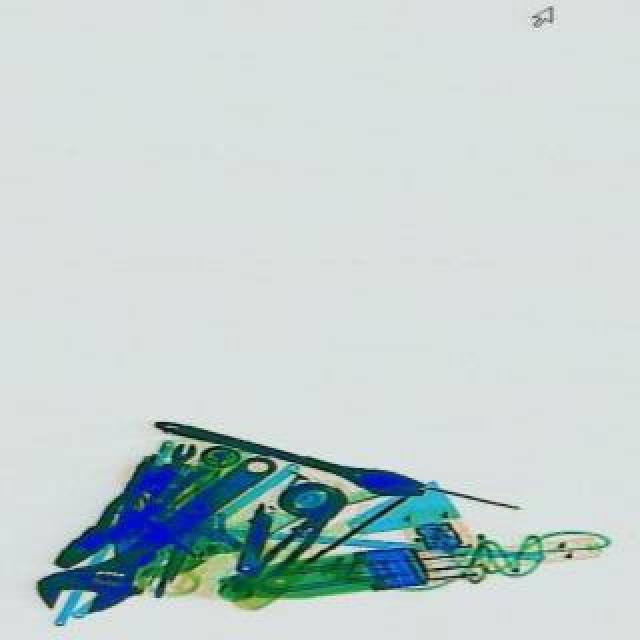scissors: (36, 430, 298, 638), (158, 406, 432, 506), (152, 436, 204, 504)
wrench: (48, 442, 220, 578), (254, 492, 350, 586)
